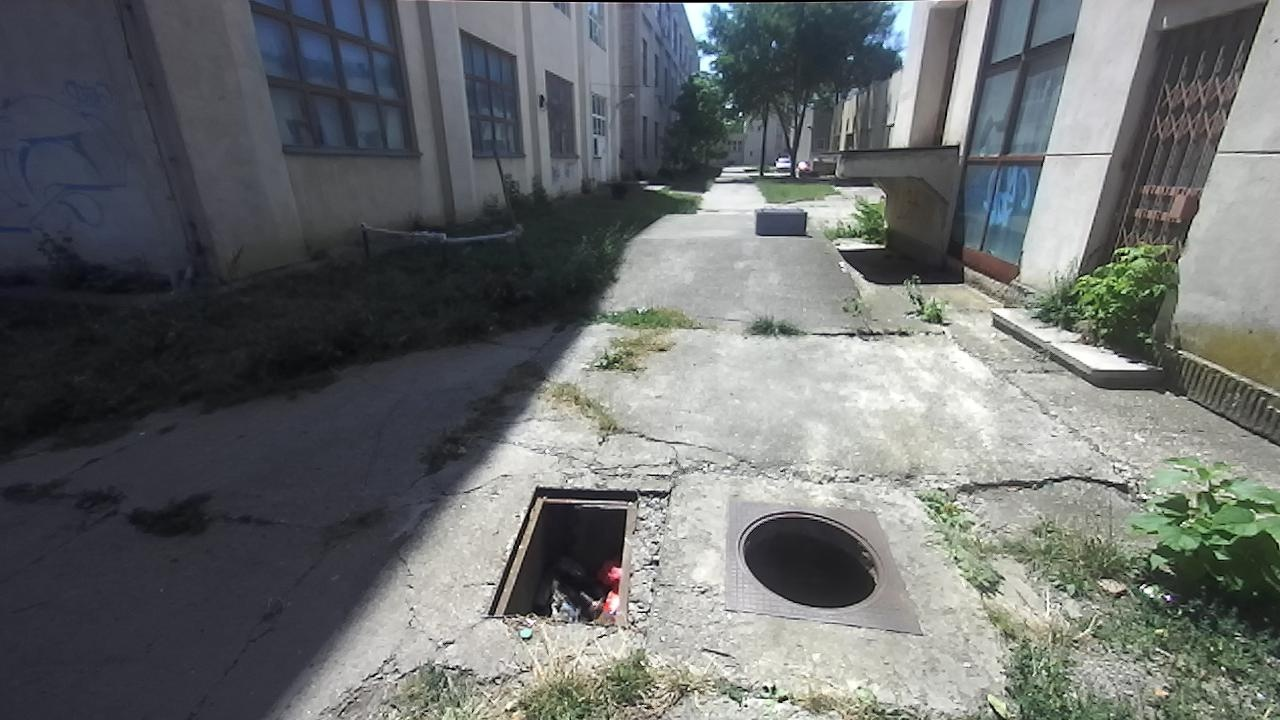drain: (478, 489, 667, 627), (738, 506, 882, 612)
